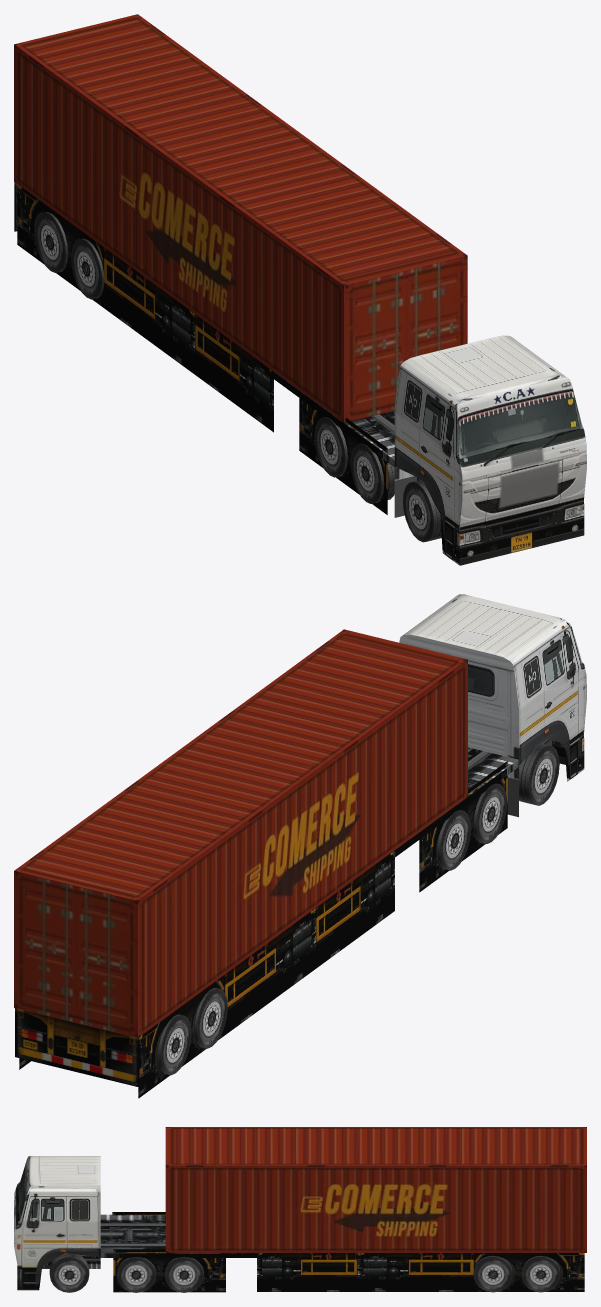
The model's file is signa.glb.
3 views of the same model, one above another, from view 1: azimuth 30°, elevation 25°; view 2: azimuth 150°, elevation 25°; view 3: azimuth 270°, elevation 25° (orthographic). The views are drawn at different scales.
Visible parts, largest first — view 1: Container_container01textred_0, truck_body_pasted__pasted__truck_cabin_0, truck_body_pasted__pasted__side_chachis_0, pasted__pCylinder11_pasted__tyer_0, truck_body_pasted__pasted__chchis_0; view 2: Container_container01textred_0, truck_body_pasted__pasted__truck_cabin_0, truck_body_pasted__pasted__side_chachis_0, pasted__pCylinder11_pasted__tyer_0, truck_body_back_palne_0, truck_body_pasted__pasted__chchis_0; view 3: Container_container01textred_0, truck_body_pasted__pasted__side_chachis_0, truck_body_pasted__pasted__truck_cabin_0, pasted__pCylinder11_pasted__tyer_0, truck_body_pasted__pasted__chchis_0.
Part boxes in pixels (box(x1,y1,x2,y2)): Container_container01textred_0: box(14, 14, 467, 422); truck_body_pasted__pasted__truck_cabin_0: box(394, 335, 586, 565); truck_body_pasted__pasted__side_chachis_0: box(17, 184, 387, 514); pasted__pCylinder11_pasted__tyer_0: box(35, 212, 441, 542); truck_body_pasted__pasted__chchis_0: box(271, 370, 421, 480); Container_container01textred_0: box(14, 629, 467, 1037); truck_body_pasted__pasted__truck_cabin_0: box(399, 594, 586, 781); truck_body_pasted__pasted__side_chachis_0: box(19, 761, 507, 1098); pasted__pCylinder11_pasted__tyer_0: box(158, 743, 559, 1075); truck_body_back_palne_0: box(15, 1008, 139, 1087); truck_body_pasted__pasted__chchis_0: box(393, 738, 551, 857); Container_container01textred_0: box(165, 1127, 586, 1252); truck_body_pasted__pasted__side_chachis_0: box(112, 1212, 584, 1292); truck_body_pasted__pasted__truck_cabin_0: box(14, 1156, 100, 1290); pasted__pCylinder11_pasted__tyer_0: box(49, 1253, 560, 1292); truck_body_pasted__pasted__chchis_0: box(42, 1214, 258, 1268).
Bounding box in the file's own units: 2.47 × 3.74 × 15.27.
Materials: 7 (6 with a texture image).
